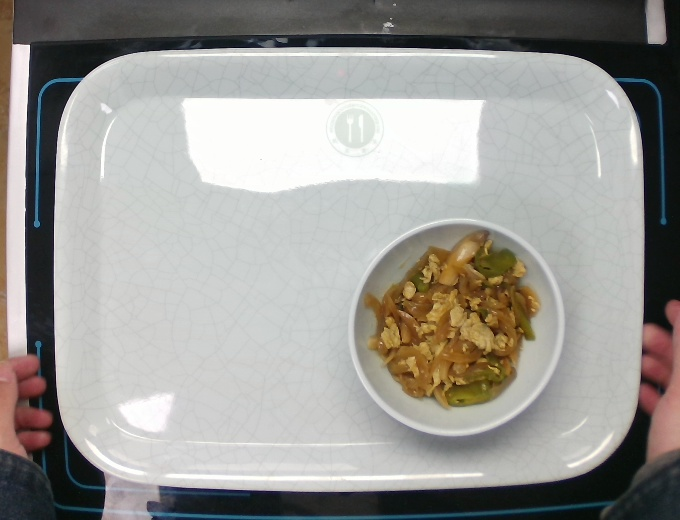JYsf-Fan_Wan: (346, 215, 567, 440)
